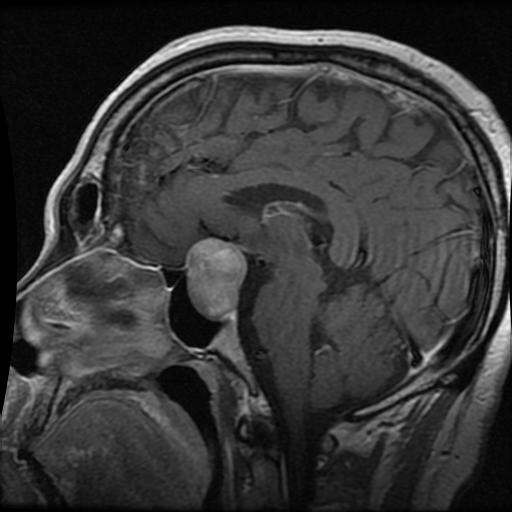Pituirity_tumour: (186, 237, 244, 316)
